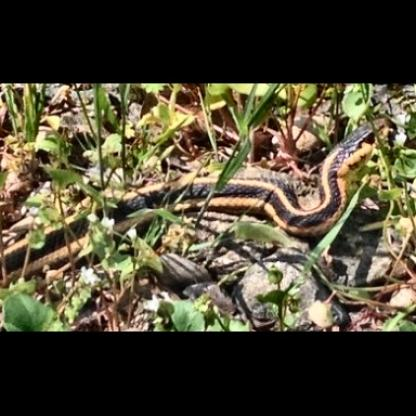Snake: (278, 123, 388, 219)
